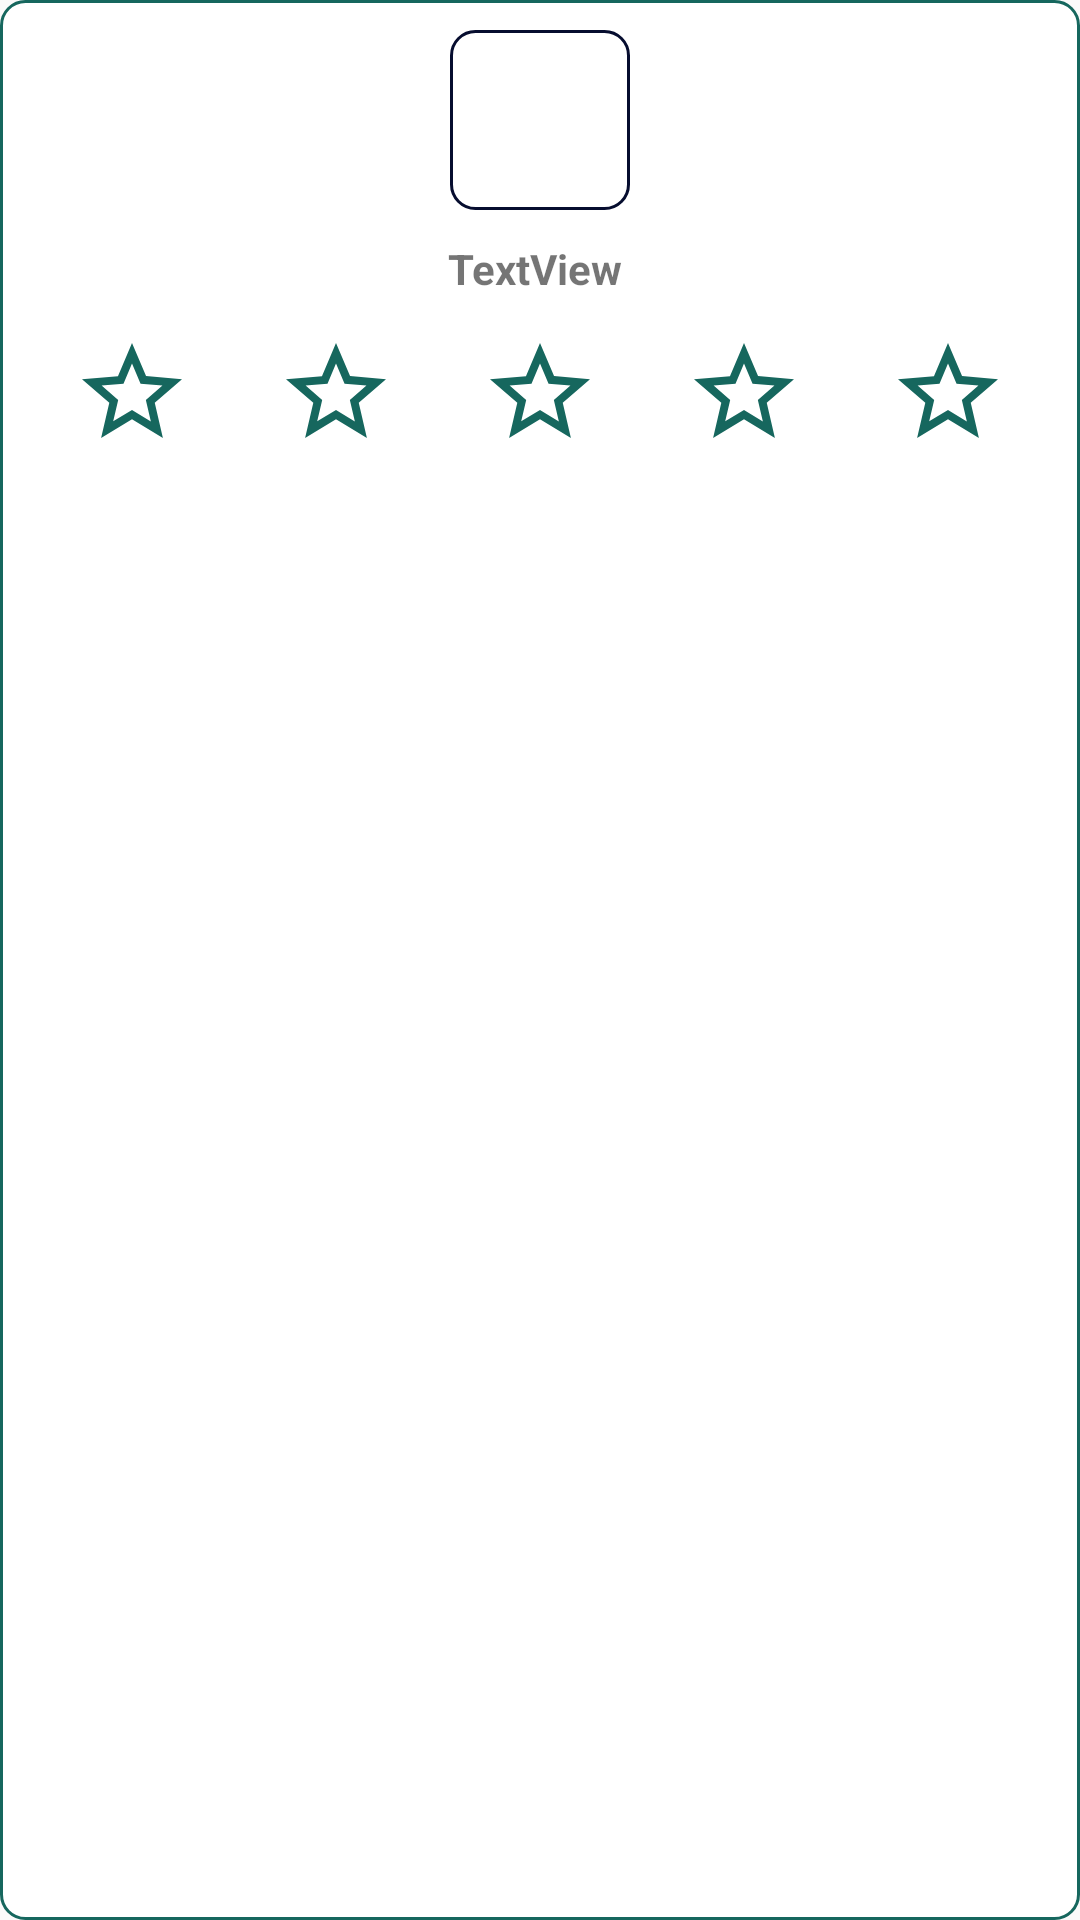

Icons on this 1080px x 1920px Android screen, each with the point to tap as [x,y]:
star: [132,390], [336,390], [540,390], [744,390], [948,390]
